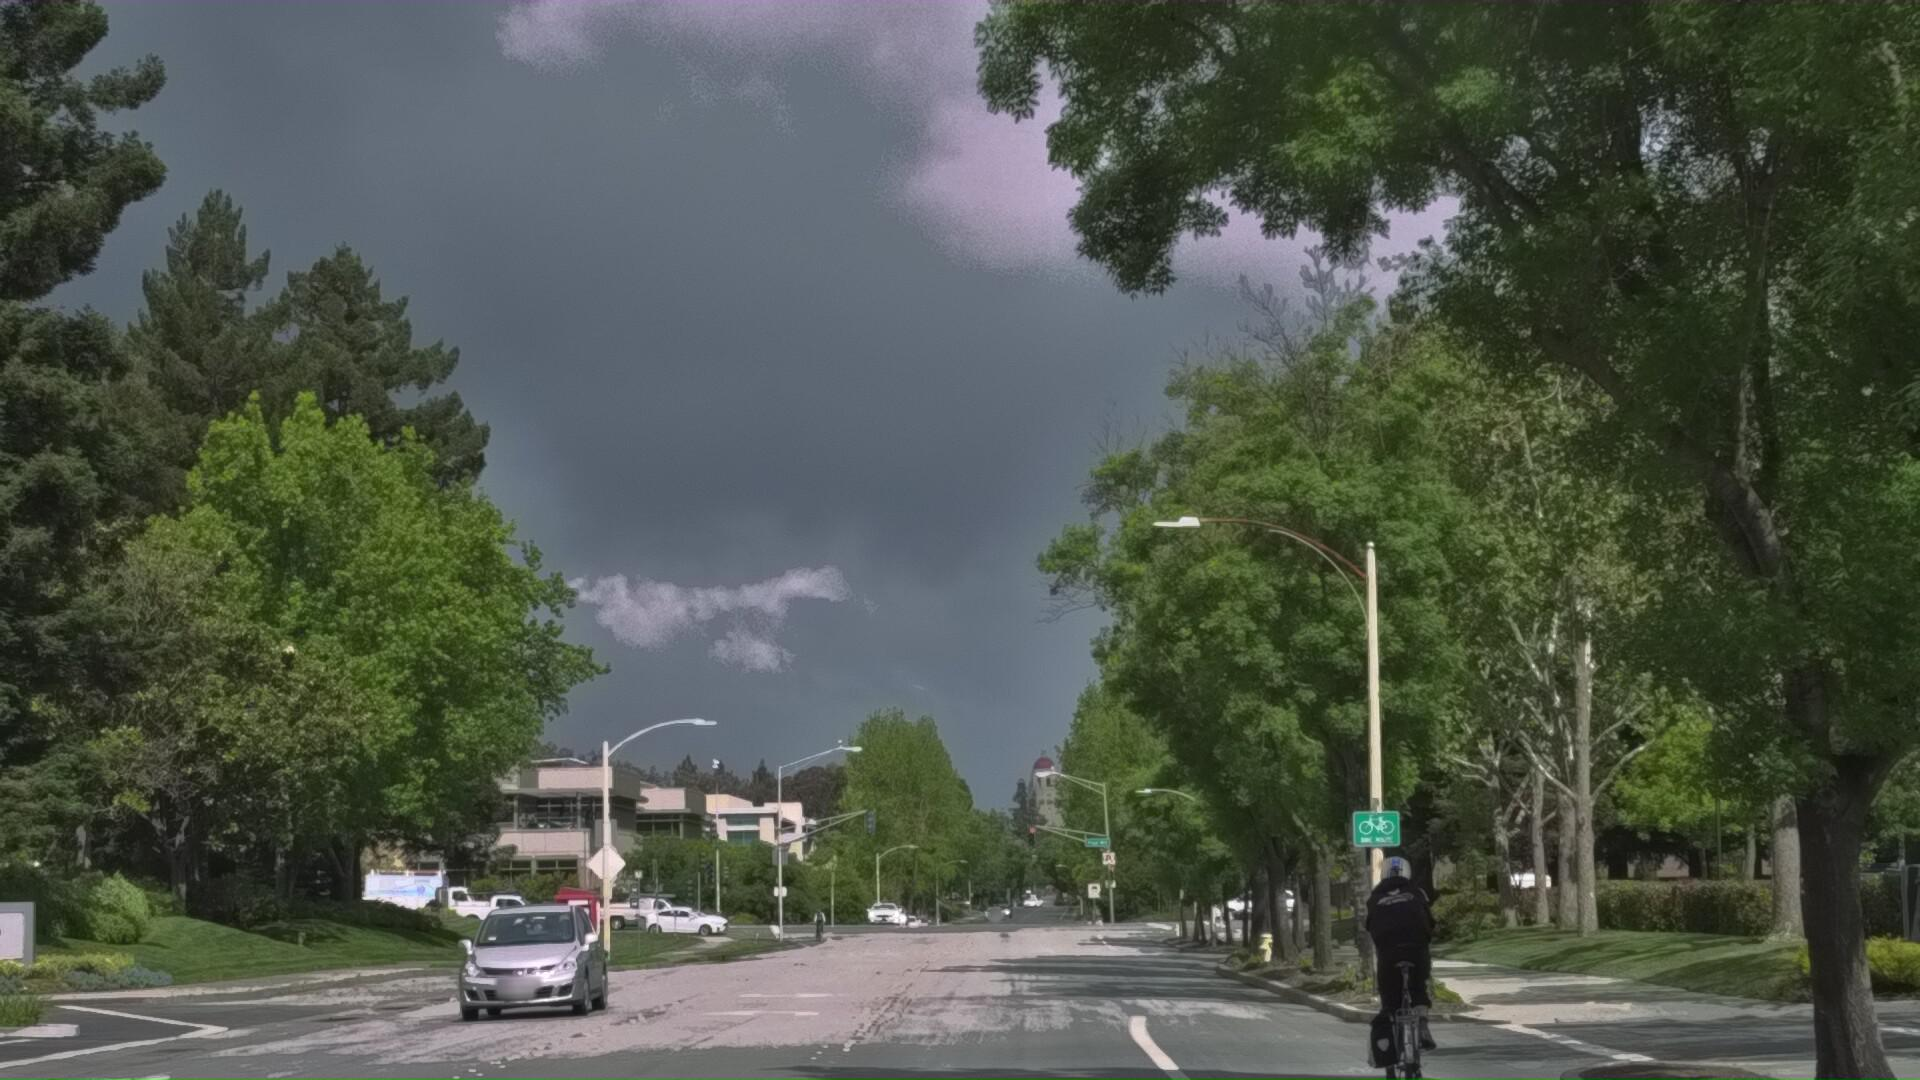bicycle: (1327, 930, 1476, 1080)
car: (436, 981, 604, 1080)
